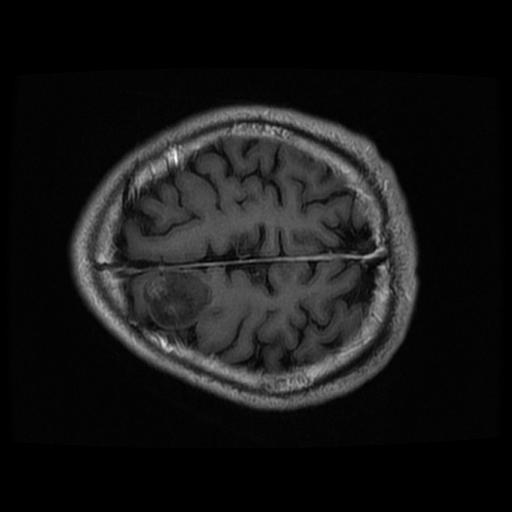glioma: (139, 271, 211, 330)
